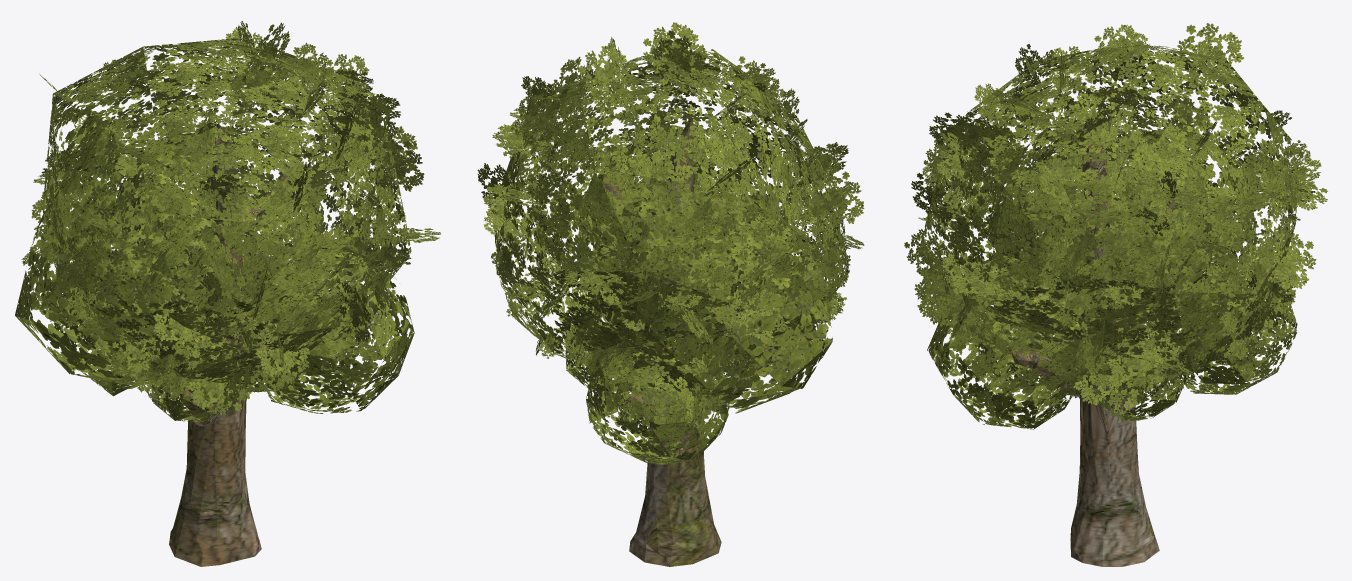
The model's file is tree.obj.
The picture shows the model from 3 angles, left to right: view 1: azimuth 30°, elevation 25°; view 2: azimuth 150°, elevation 25°; view 3: azimuth 270°, elevation 25°; orthographic projection. The views are drawn at different scales.
Parts seen in each view (by area): view 1: TreeBaked.000_Icosphere.018; view 2: TreeBaked.000_Icosphere.018; view 3: TreeBaked.000_Icosphere.018.
Part boxes in pixels (x1,y1,x2,y2): TreeBaked.000_Icosphere.018: (15,21,440,566); TreeBaked.000_Icosphere.018: (477,22,864,566); TreeBaked.000_Icosphere.018: (904,23,1327,566).
Size of the model in its own units: 12.16 by 16.63 by 12.88.
Materials: 2 (2 with a texture image).
